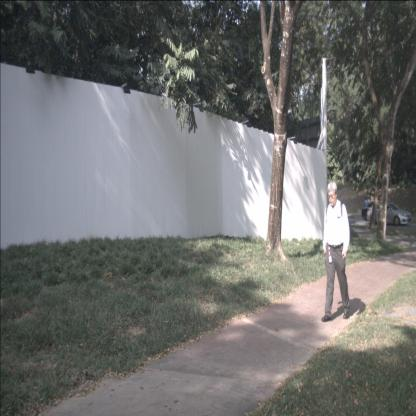human-pedestrian-adult: (321, 181, 350, 322), (366, 196, 371, 217), (363, 197, 368, 218)
vehicle-car: (367, 202, 412, 226), (362, 201, 390, 221)
